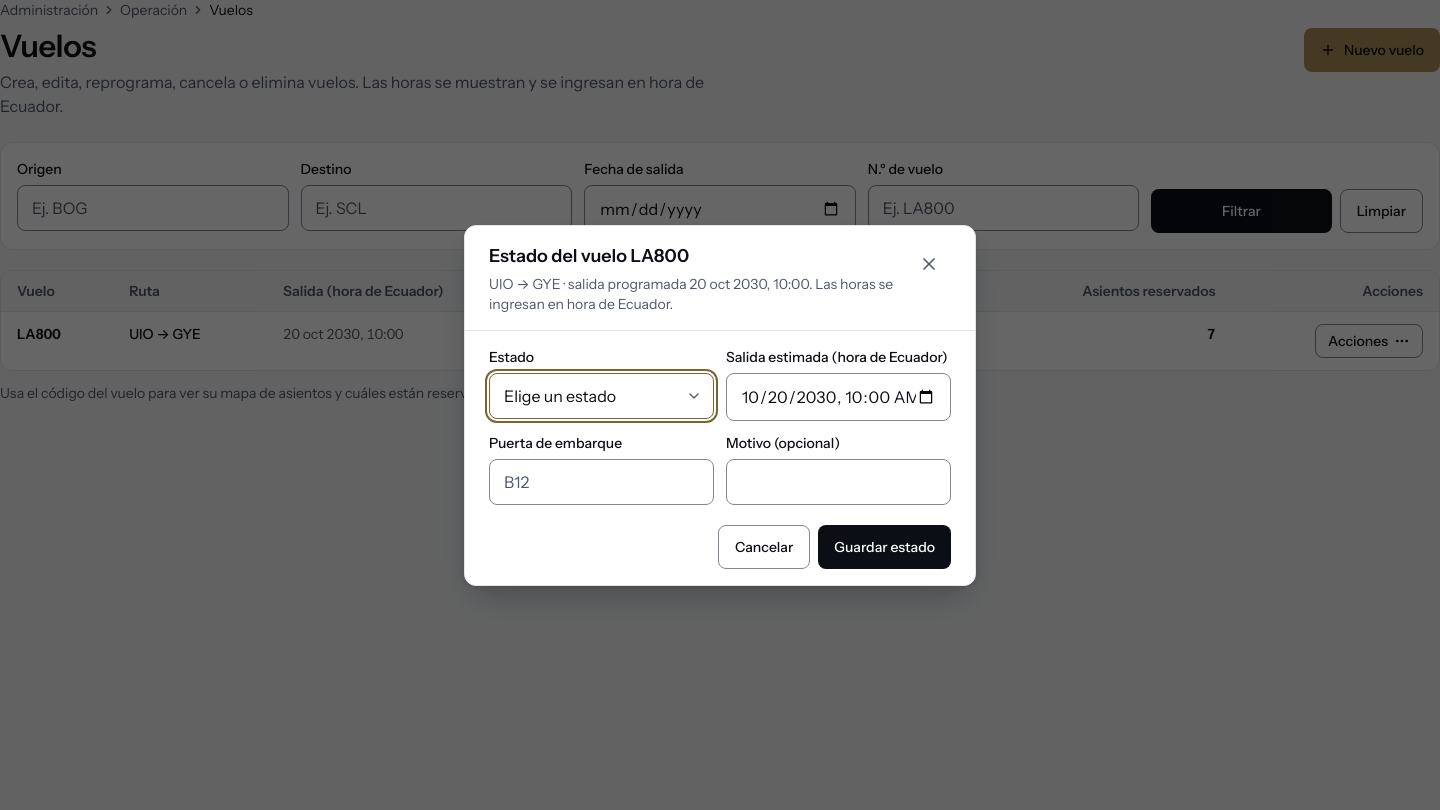
Test: AdminFlightsPage › opens the status dialog with no state preselected and asks to choose one
The image size is (1440, 810).
Earlier steps of the test are not shown.
Expected: the dropdown labelled "Estado" shows "Elige un estado", [489, 372, 714, 418]
Click the button "Guardar estado" at (885, 546), box [818, 524, 951, 568]
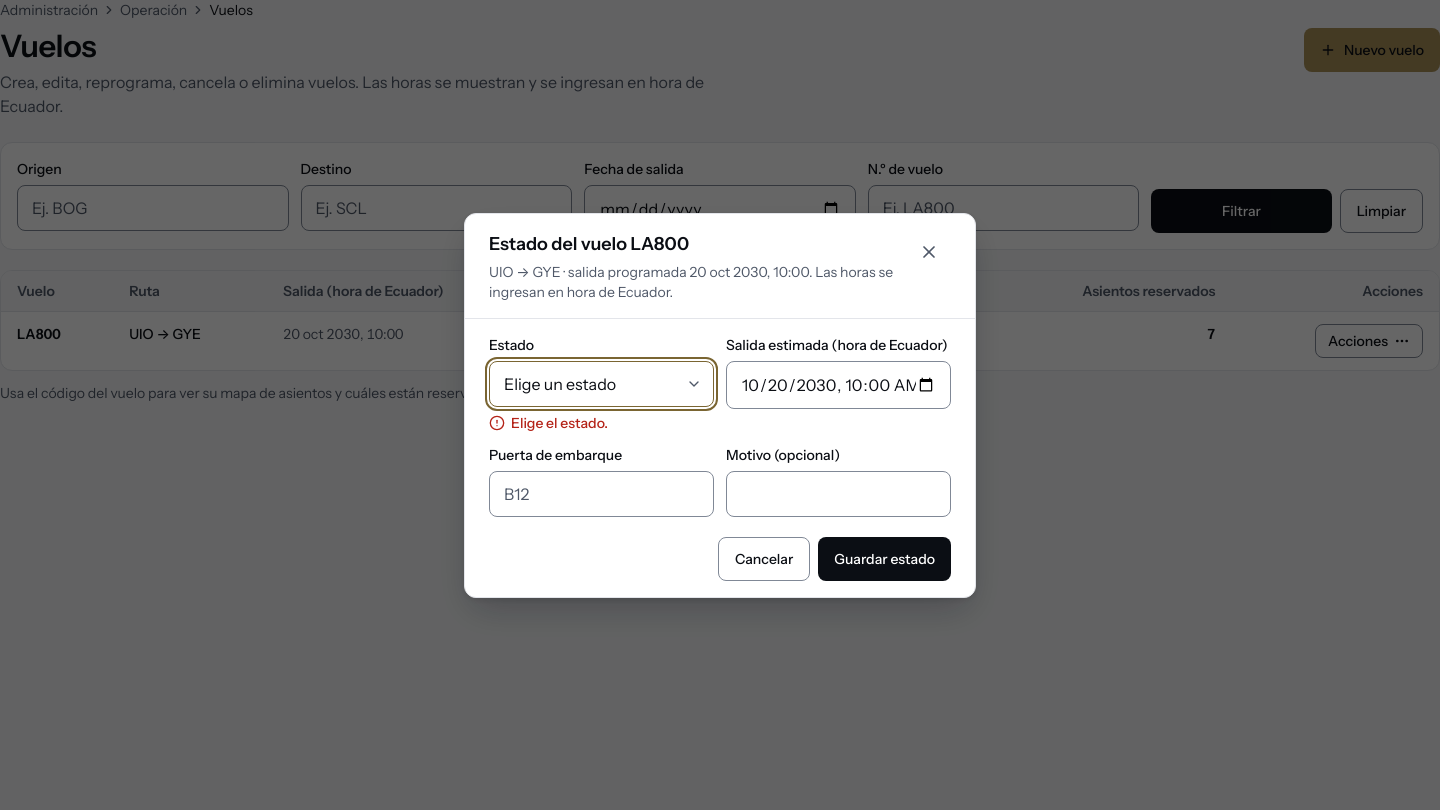
Now the text "Elige el estado." is shown, box [489, 414, 608, 432]
